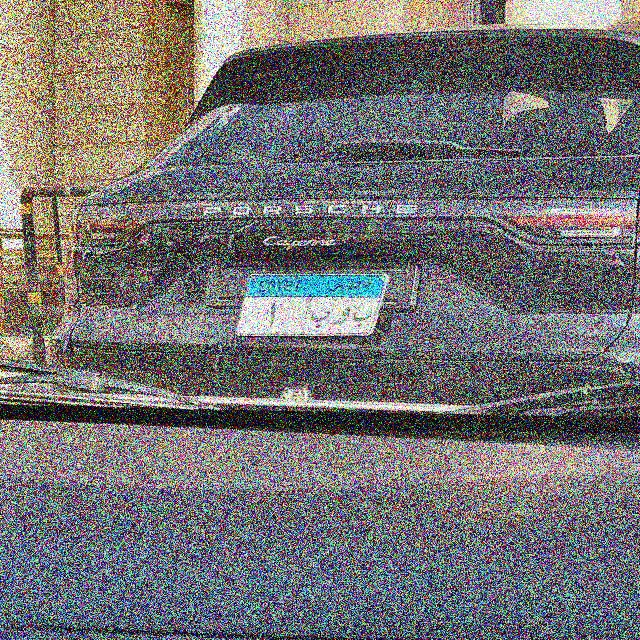License Plate: (230, 268, 394, 342)
